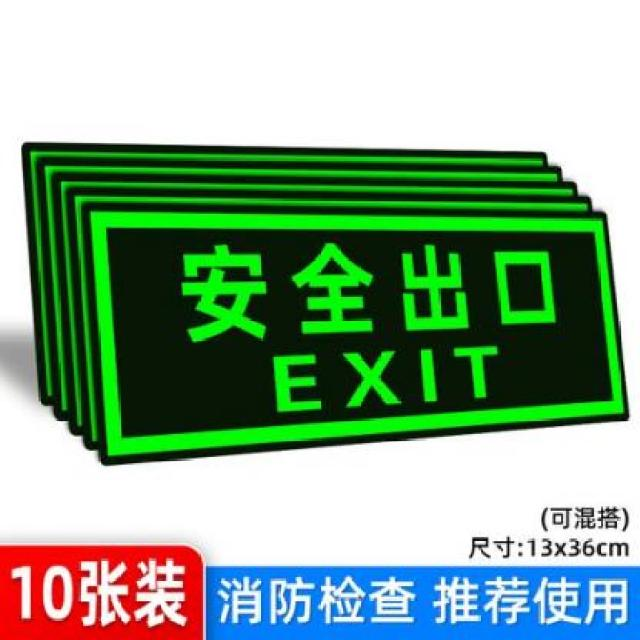exit_sign: (77, 196, 626, 454)
